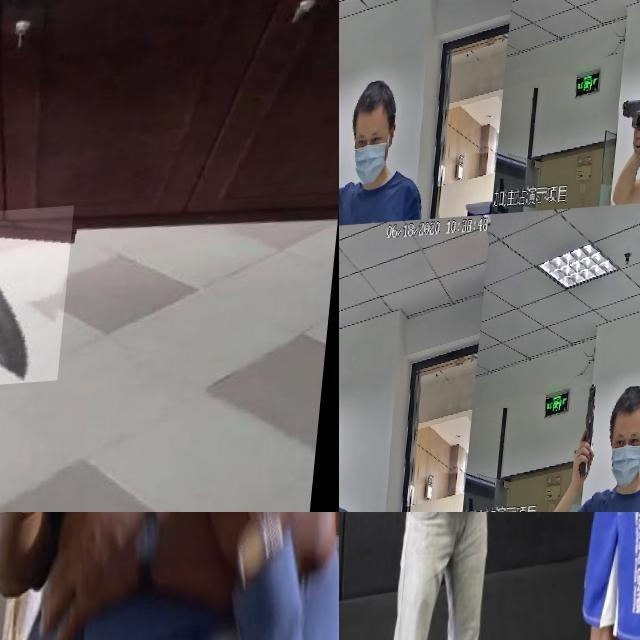-: (0, 211, 118, 399), (532, 512, 594, 563)
gun-knife-thesis - v11 Yolov5 augmented: (0, 512, 70, 604), (584, 385, 612, 484), (621, 95, 640, 148), (339, 110, 355, 160), (339, 453, 352, 512)
